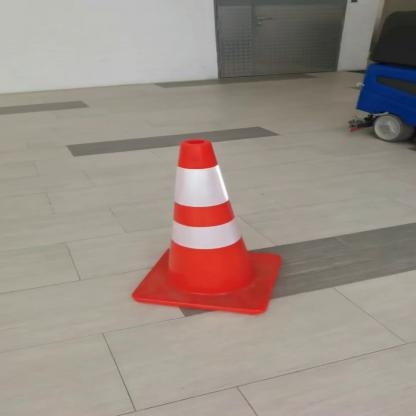cone: (107, 130, 306, 320)
